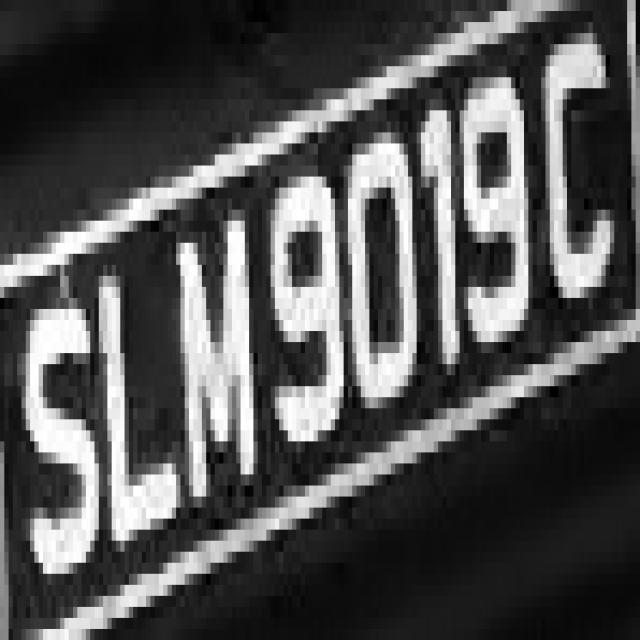0: (335, 100, 425, 442)
1: (417, 77, 468, 386)
9: (254, 110, 344, 474), (447, 44, 528, 364)
C: (533, 11, 627, 353)
L: (90, 232, 189, 574)
M: (159, 209, 271, 496)
S: (22, 287, 108, 574)
